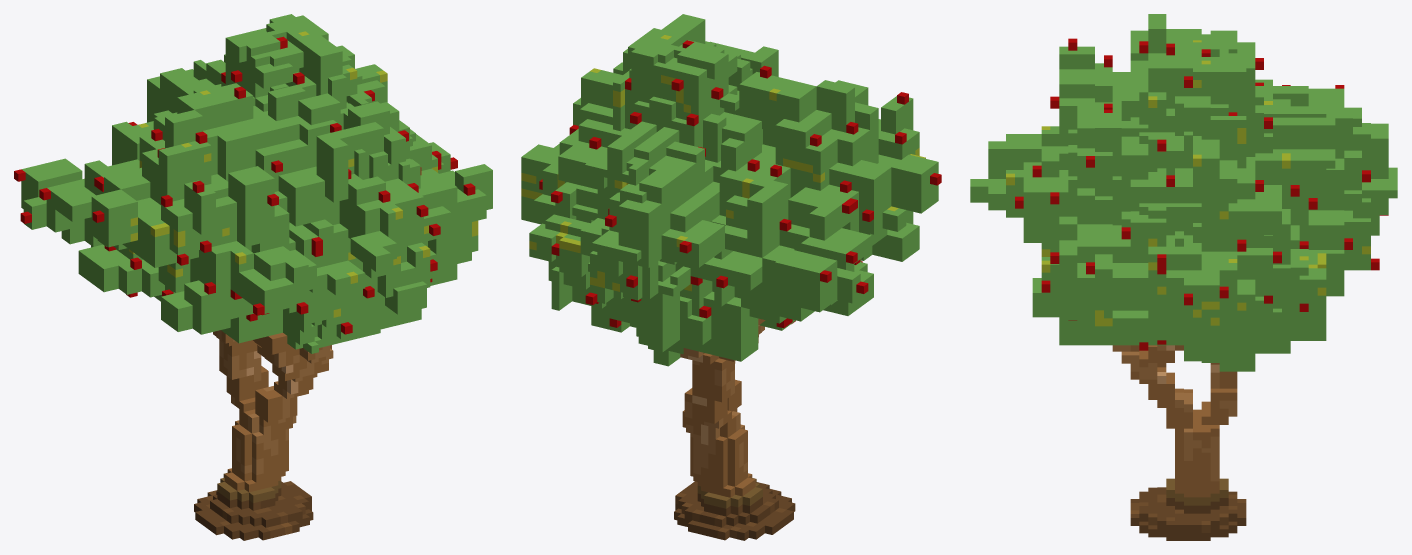
File: 1_1 pit.obj
The picture shows the model from 3 angles, left to right: view 1: azimuth 30°, elevation 25°; view 2: azimuth 150°, elevation 25°; view 3: azimuth 270°, elevation 25°; orthographic projection. The views are drawn at different scales.
Bounding box in the file's own units: 5.2 × 6 × 4.8.
1 material, 1 textured.
